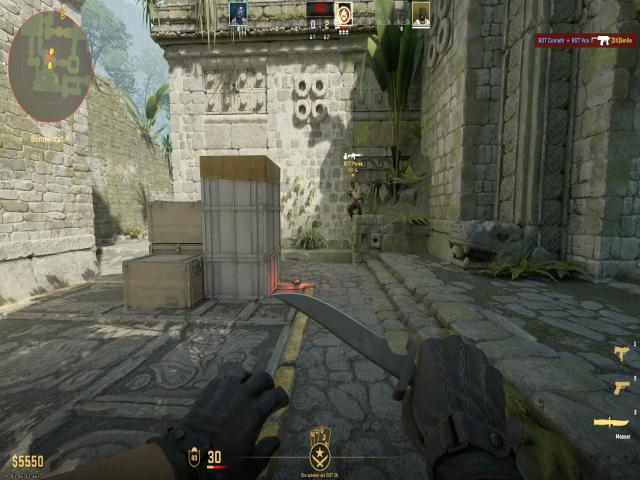Bomb: (289, 276, 303, 292)
T: (343, 172, 370, 222)
T-Head: (348, 179, 359, 191)
